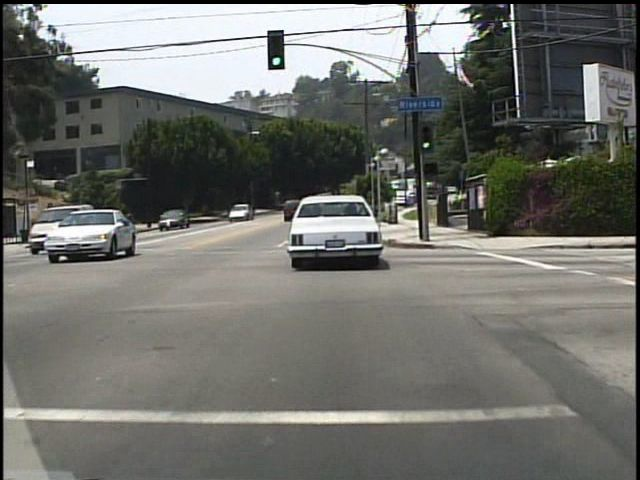person: (126, 209, 138, 233)
